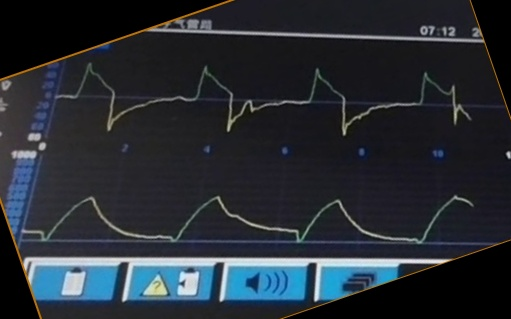Premature_cycling Flow: (67, 59, 474, 138)
Premature_cycling Volume: (36, 175, 472, 248)
